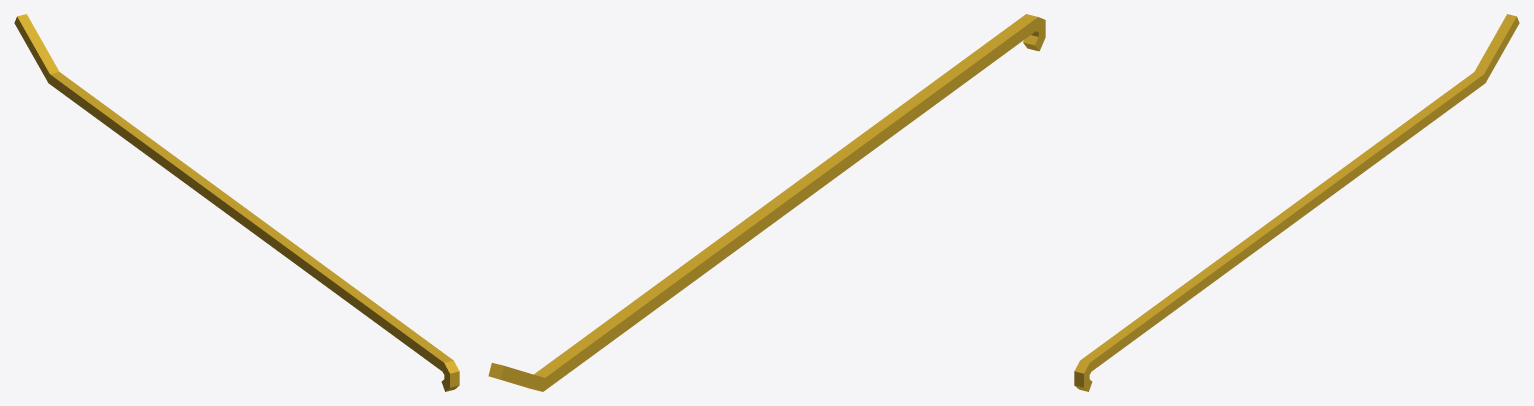
File: original-83.obj
3 views of the same model, side by side, from view 1: azimuth 30°, elevation 25°; view 2: azimuth 150°, elevation 25°; view 3: azimuth 330°, elevation 25° (orthographic). The views are drawn at different scales.
Visible parts, largest first — view 1: mesh98/mesh98-geometry#mesh98-geometry; view 2: mesh98/mesh98-geometry#mesh98-geometry; view 3: mesh98/mesh98-geometry#mesh98-geometry.
Boxes of the visible parts, <box> form: mesh98/mesh98-geometry#mesh98-geometry: <box>14,14,459,391</box>; mesh98/mesh98-geometry#mesh98-geometry: <box>488,14,1045,391</box>; mesh98/mesh98-geometry#mesh98-geometry: <box>1074,14,1519,391</box>.
Bounding box in the file's own units: 0.0083 × 0.0512 × 0.6491.
